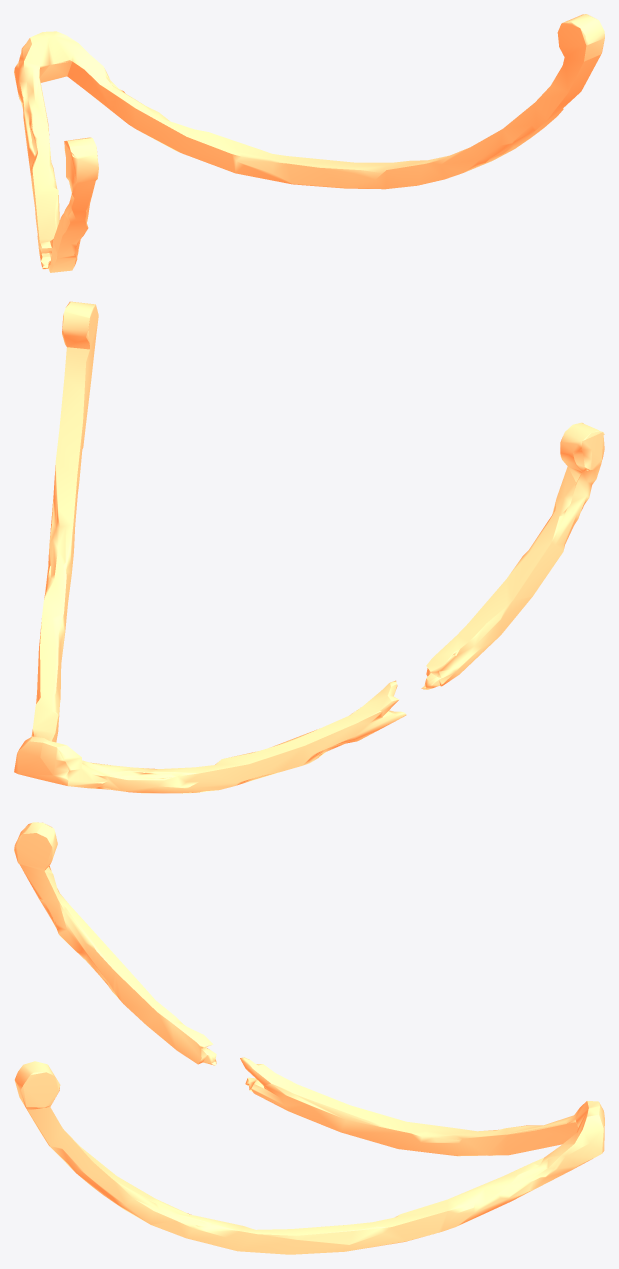
The model's file is SM_Bow02.fbx.
The picture shows the model from 3 angles, top to bottom: view 1: azimuth 30°, elevation 25°; view 2: azimuth 150°, elevation 25°; view 3: azimuth 270°, elevation 25°; orthographic projection. The views are drawn at different scales.
Visible parts, largest first — view 1: SM_Bow02_LOD0; view 2: SM_Bow02_LOD0; view 3: SM_Bow02_LOD0.
Boxes of the visible parts, <box> form: SM_Bow02_LOD0: <box>14,14,604,272</box>; SM_Bow02_LOD0: <box>14,301,604,793</box>; SM_Bow02_LOD0: <box>14,822,604,1254</box>.
Bounding box in the file's own units: 742 × 731 × 335.
